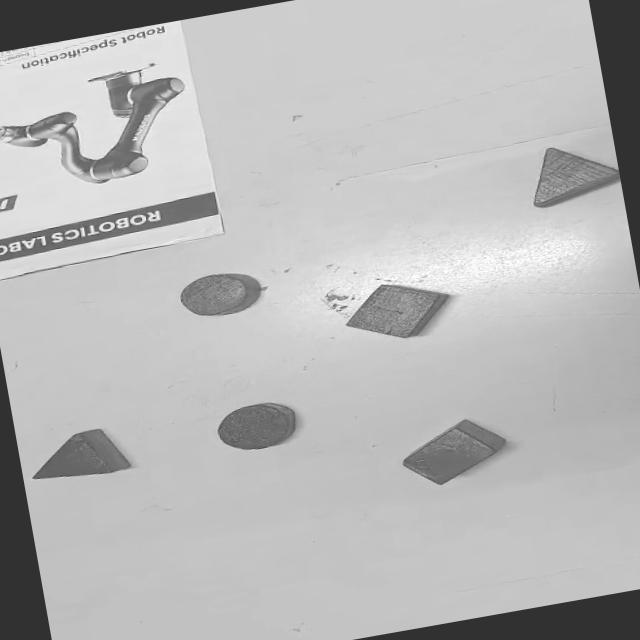bcircle: (211, 398, 300, 457)
bcube: (337, 273, 452, 350)
btriangle: (24, 424, 125, 486)
rcircle: (176, 268, 262, 322)
rcube: (394, 414, 508, 492)
rtriangle: (524, 136, 622, 210)
